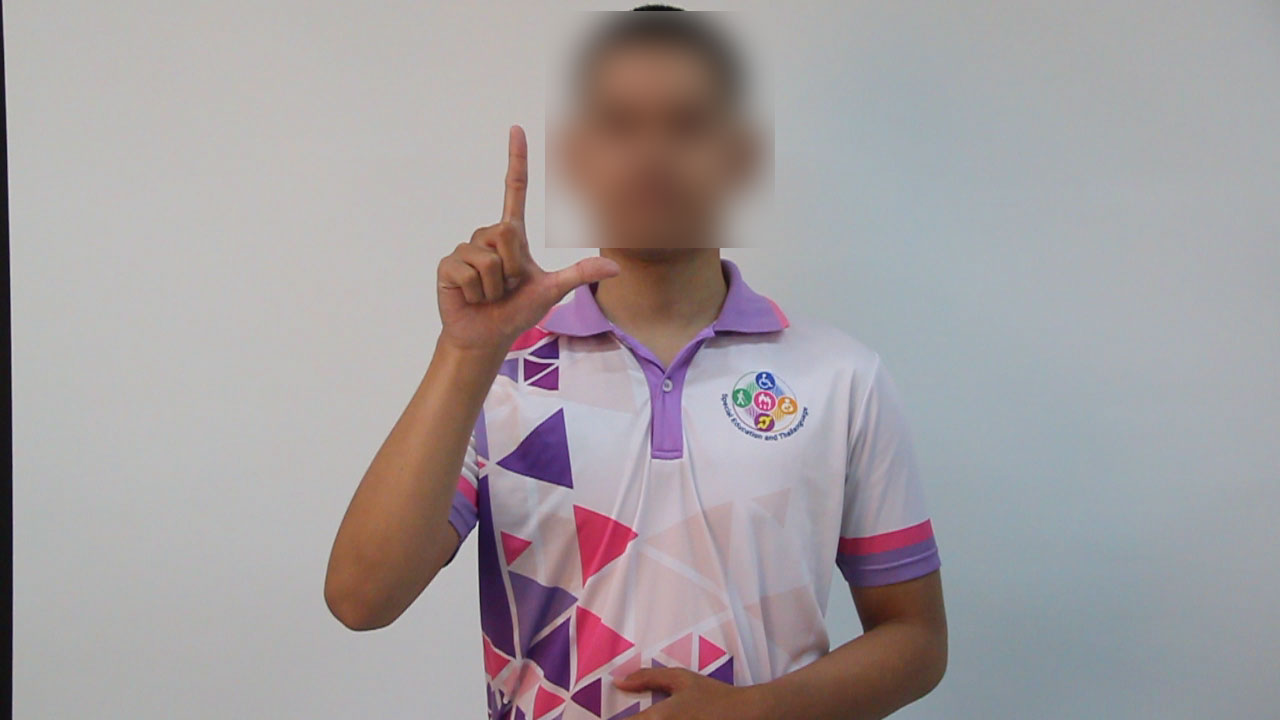lor: (412, 91, 645, 364)
